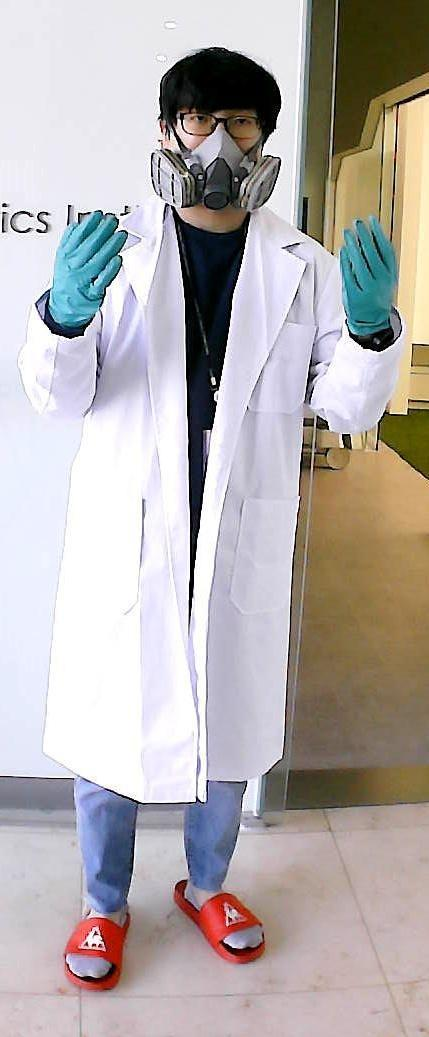lab_coat: (105, 218, 328, 777)
